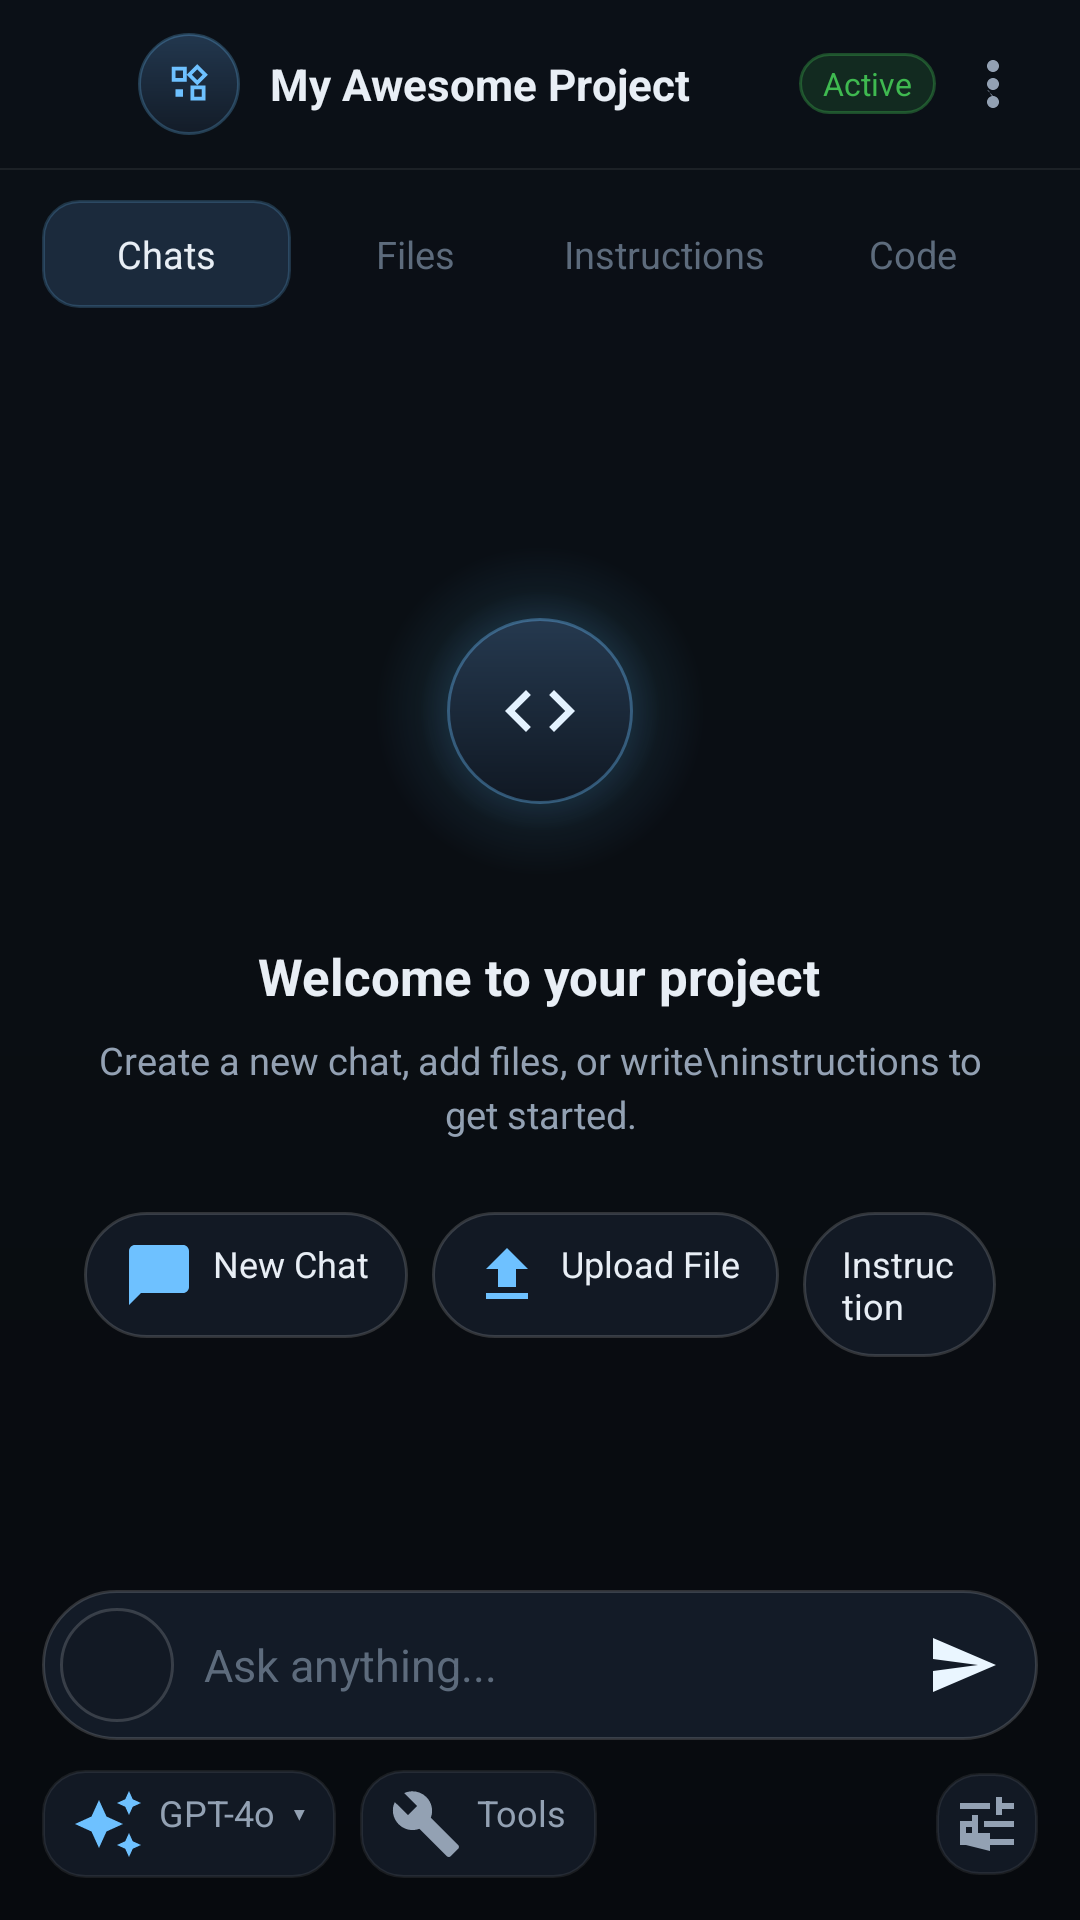

Screen size 1080x1920. Icon name, then its box in pixels as box=[x1, y1, x2, y2]:
code: box=[498, 690, 582, 753]
Composer options: box=[936, 1773, 1038, 1875]
More: box=[987, 60, 999, 108]
Send: box=[933, 1638, 996, 1692]
